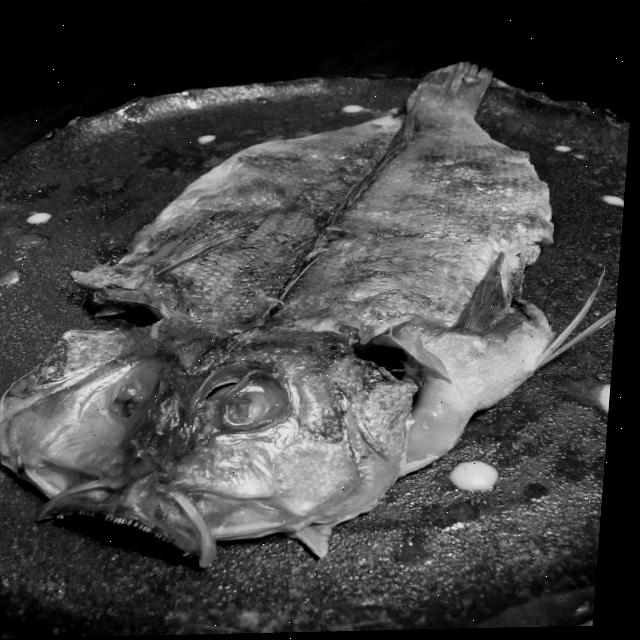熟制海鲜: (3, 51, 546, 560)
